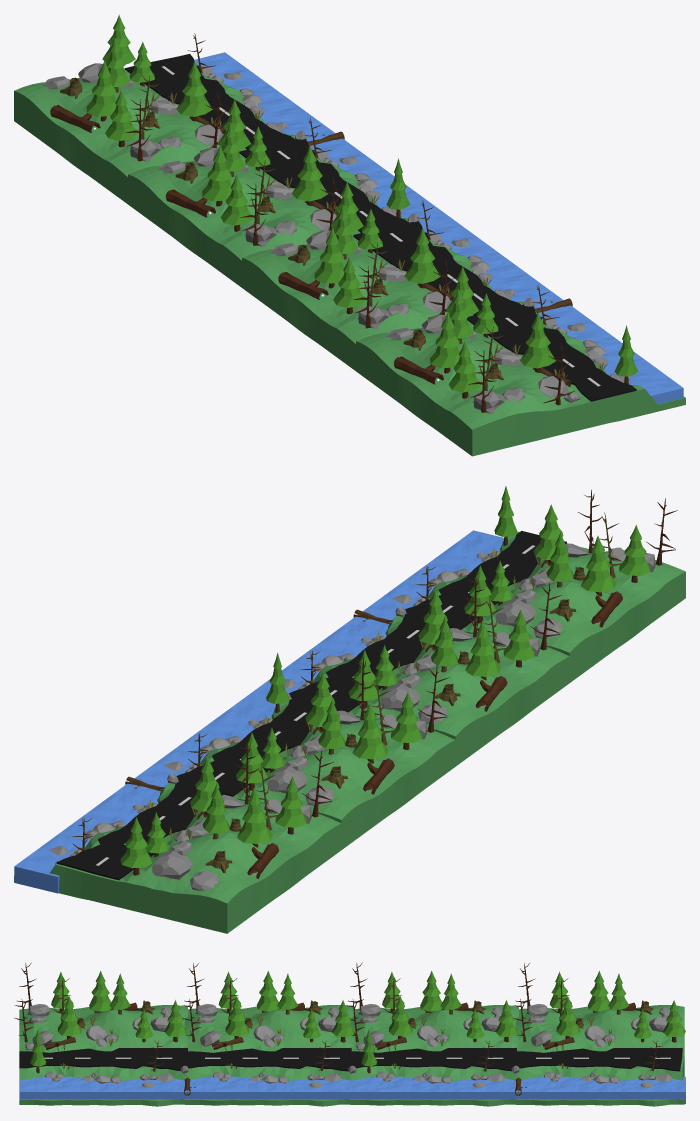
3 views of the same model, one above another, from view 1: azimuth 30°, elevation 25°; view 2: azimuth 150°, elevation 25°; view 3: azimuth 270°, elevation 25° (orthographic). The views are drawn at different scales.
Visible parts, largest first — view 1: Terrain_1.001, Terrain_1, Terrain_1.003, Terrain_1.002, Road_3.001, Road_3.003, Road_3, Road_3.002, Water_2.003, Water_2.001, Water_2, Water_2.002 (+18 smaller); view 2: Terrain_1.003, Terrain_1.001, Terrain_1.002, Terrain_1, Water_2.003, Road_3.003, Road_3.002, Road_3.001, Road_3, Water_2.001, Water_2.002, Water_2 (+26 smaller); view 3: Terrain_1.003, Terrain_1.001, Terrain_1, Terrain_1.002, Water_2.003, Water_2.001, Water_2.002, Water_2, Road_3.003, Road_3, Road_3.002, Road_3.001 (+34 smaller).
Boxes of the visible parts, x1,y1,x2,y2 form: Terrain_1.001: [356, 311, 685, 456]; Terrain_1: [242, 231, 523, 372]; Terrain_1.003: [14, 64, 295, 203]; Terrain_1.002: [128, 146, 407, 289]; Road_3.001: [467, 304, 636, 401]; Road_3.003: [125, 54, 295, 150]; Road_3: [353, 221, 523, 317]; Road_3.002: [239, 139, 409, 232]; Water_2.003: [194, 52, 335, 141]; Water_2.001: [538, 305, 683, 403]; Water_2: [423, 219, 563, 308]; Water_2.002: [310, 138, 452, 229]; Terrain_1.003: [14, 783, 343, 933]; Terrain_1.001: [428, 531, 685, 682]; Terrain_1.002: [200, 700, 455, 848]; Terrain_1: [313, 615, 569, 766]; Water_2.003: [14, 782, 160, 893]; Road_3.003: [57, 780, 225, 880]; Road_3.002: [176, 697, 339, 796]; Road_3.001: [405, 531, 566, 629]; Road_3: [289, 613, 453, 712]; Water_2.001: [363, 530, 503, 622]; Water_2.002: [134, 699, 275, 789]; Water_2: [243, 615, 388, 704]; Terrain_1.003: [515, 1005, 684, 1106]; Terrain_1.001: [19, 1005, 187, 1106]; Terrain_1: [184, 1005, 353, 1106]; Terrain_1.002: [350, 1005, 518, 1106]; Water_2.003: [518, 1076, 685, 1103]; Water_2.001: [20, 1076, 187, 1099]; Water_2.002: [351, 1076, 518, 1099]; Water_2: [187, 1076, 354, 1099]; Road_3.003: [513, 1048, 682, 1071]; Road_3: [182, 1048, 351, 1071]; Road_3.002: [348, 1048, 516, 1071]; Road_3.001: [19, 1048, 187, 1070].
Bounding box in the file's own units: 17.51 × 7.94 × 63.75.
